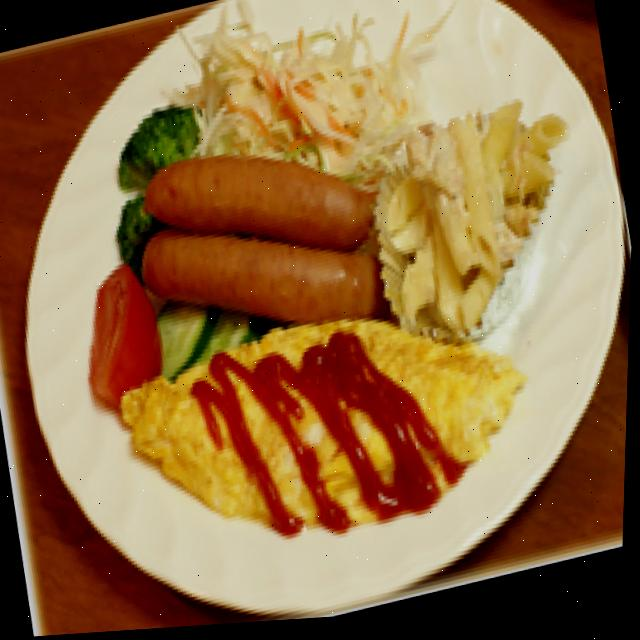鸡蛋料理: (100, 259, 585, 590)
